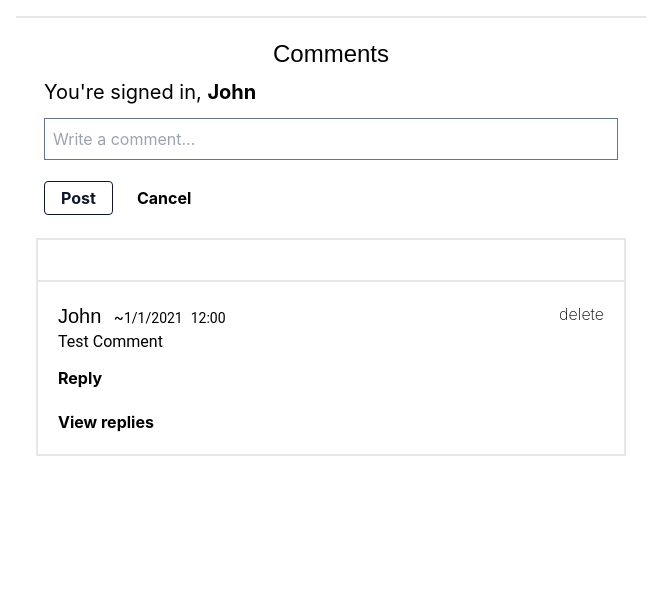
comment section › replies › renders reply form when reply button is clicked
Click the button "Reply": (80, 378) [58,366,102,390]
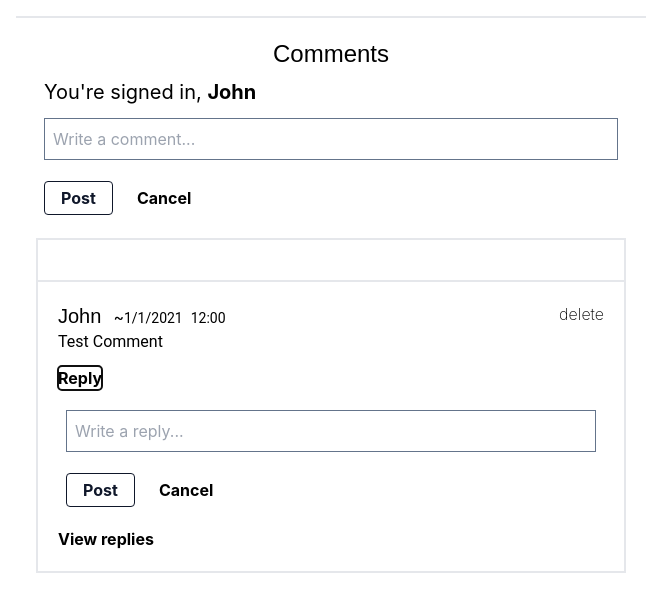
Now the text box with placeholder "Write a reply..." is shown, box [66,410,596,452]
